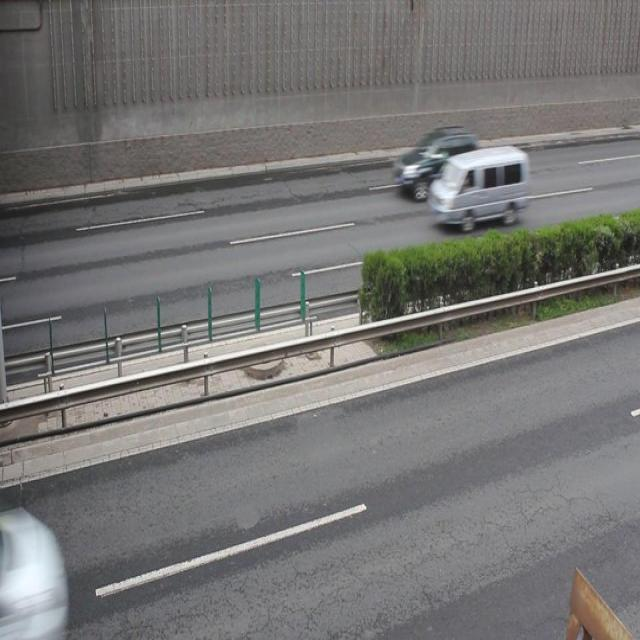car: (391, 126, 478, 200)
truck: (427, 145, 528, 228)
